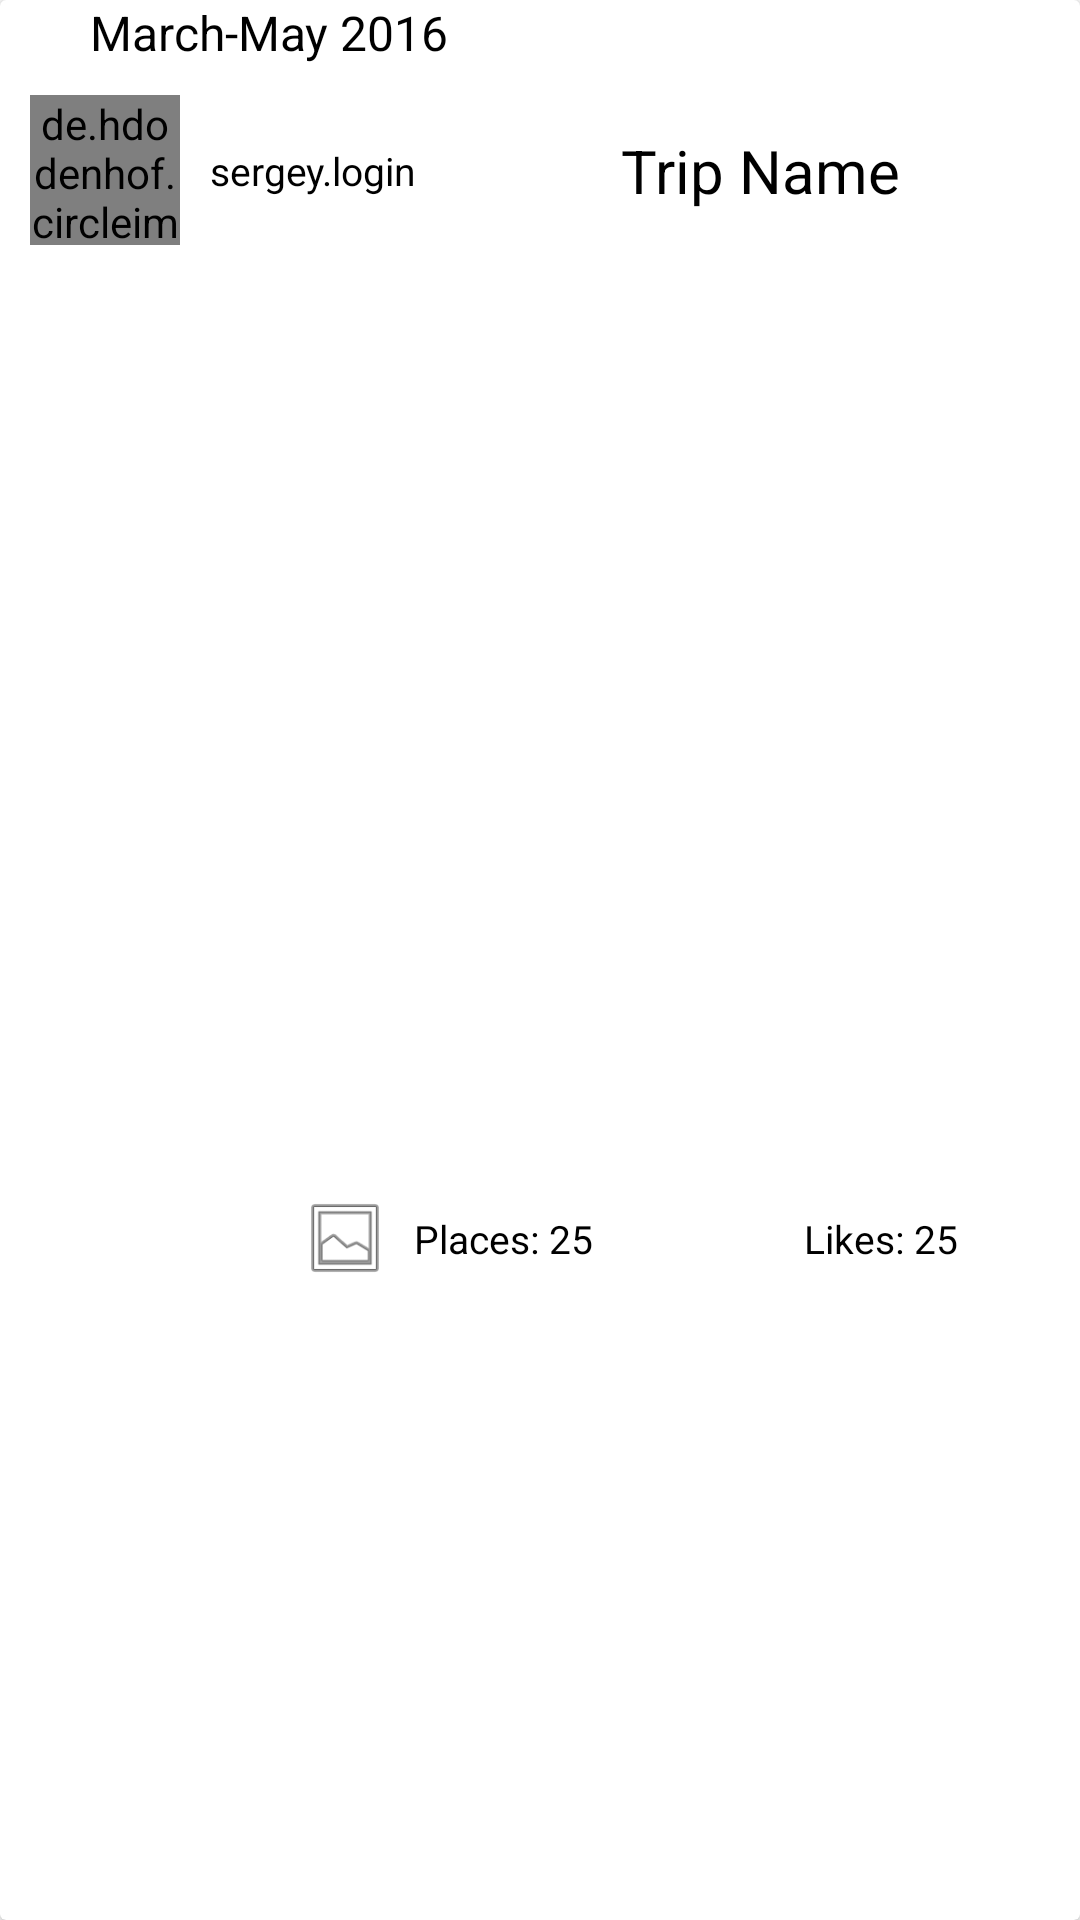

Locate icon controls on the screen. Image size 1080x1920, boxes as {"left": x1, "top": y1, "right": x2, "bottom": y2}.
gallery: {"left": 311, "top": 1204, "right": 379, "bottom": 1272}
